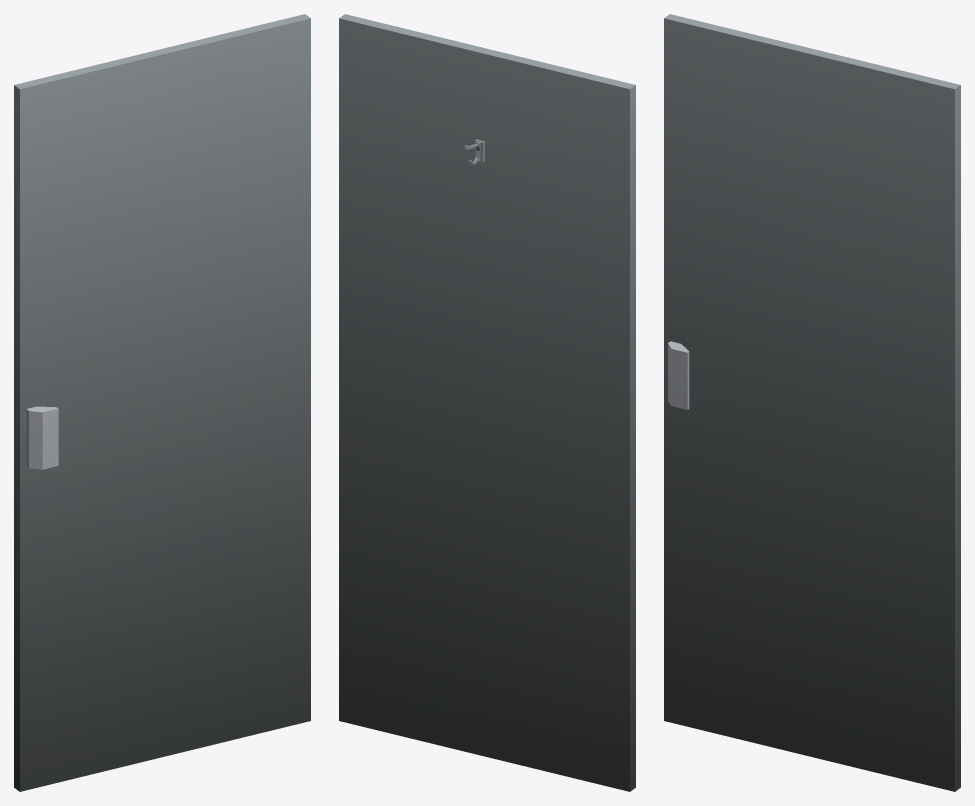
File: Changing_Cubicle_Door.fbx
3 renders of one model, left to right at view 1: azimuth 30°, elevation 25°; view 2: azimuth 150°, elevation 25°; view 3: azimuth 330°, elevation 25°, orthographic.
Parts seen in each view (by area): view 1: Changing_Cubicle_Door; view 2: Changing_Cubicle_Door; view 3: Changing_Cubicle_Door.
Part boxes in pixels (left/top/right/bottom): Changing_Cubicle_Door: left=14, top=14, right=310, bottom=791; Changing_Cubicle_Door: left=339, top=14, right=635, bottom=791; Changing_Cubicle_Door: left=664, top=14, right=960, bottom=791.
Size of the model in its own units: 85 by 196 by 14.41.
